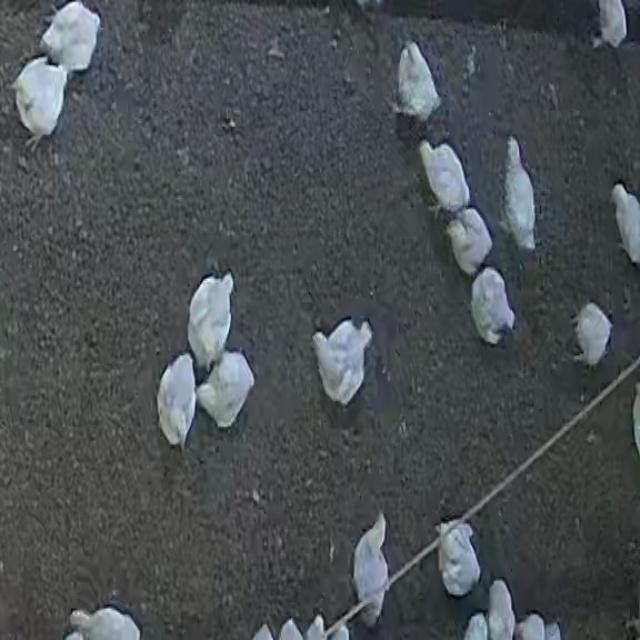chicken: (312, 320, 374, 406), (197, 349, 257, 430), (187, 272, 235, 372), (500, 136, 540, 251), (351, 512, 391, 627), (15, 62, 70, 145), (39, 2, 101, 70), (416, 137, 472, 211), (156, 352, 199, 448), (442, 200, 494, 272), (437, 519, 482, 598), (395, 43, 442, 116), (469, 268, 513, 343), (607, 182, 640, 264), (68, 604, 142, 640), (575, 305, 613, 365), (484, 580, 514, 640), (594, 0, 627, 48), (514, 613, 549, 640)
